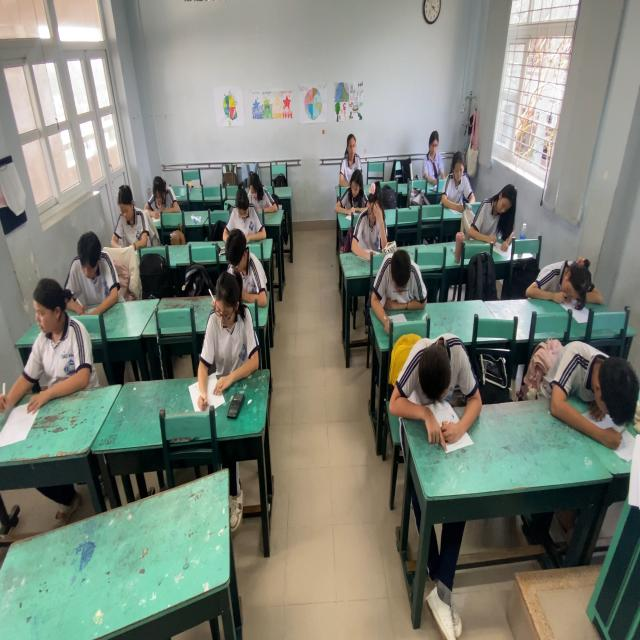not_cheating: (532, 332, 635, 486), (383, 338, 480, 496), (7, 264, 86, 416), (194, 270, 263, 410), (520, 262, 598, 356), (61, 237, 120, 360), (368, 270, 428, 364), (213, 244, 270, 342), (474, 164, 529, 260), (348, 186, 398, 278), (105, 200, 153, 288), (219, 204, 264, 276), (442, 132, 484, 208), (143, 184, 181, 256), (339, 158, 378, 222), (338, 118, 379, 178), (240, 162, 277, 224), (416, 124, 446, 179)
